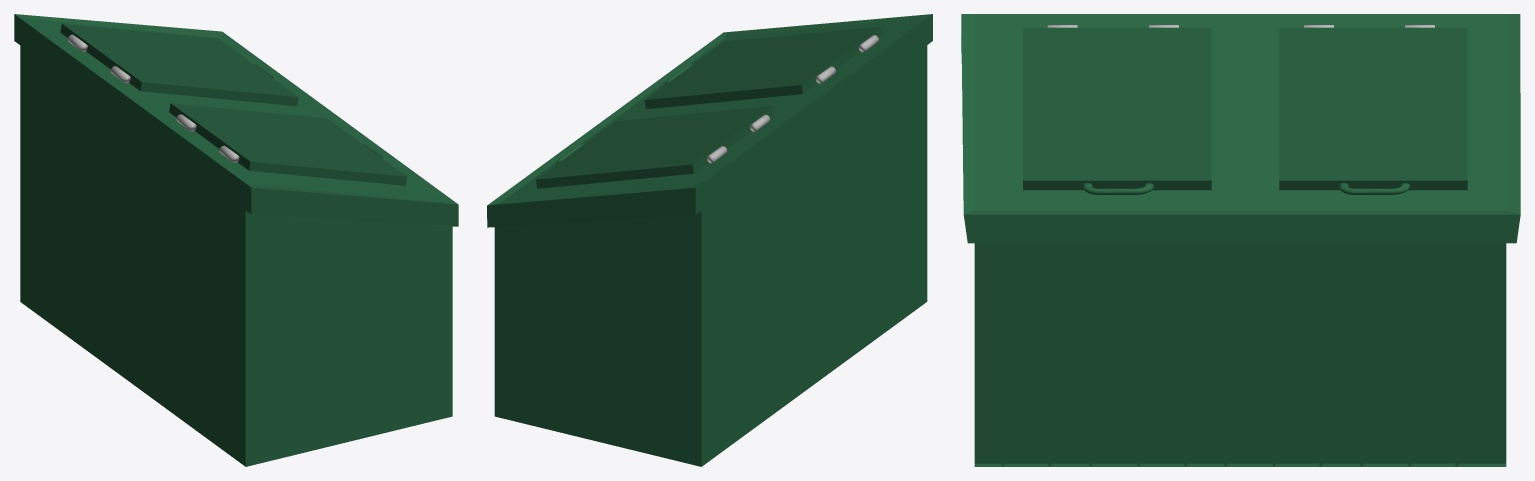
The model's file is big trash.fbx.
3 renders of one model, left to right at view 1: azimuth 30°, elevation 25°; view 2: azimuth 150°, elevation 25°; view 3: azimuth 270°, elevation 25°, orthographic. The views are drawn at different scales.
Parts seen in each view (by area): view 1: Cube; view 2: Cube; view 3: Cube.
Boxes of the visible parts, x1,y1,x2,y2 form: Cube: (14,14,458,466); Cube: (487,14,932,466); Cube: (961,14,1520,466).
Bounding box in the file's own units: 429 × 555 × 841.
